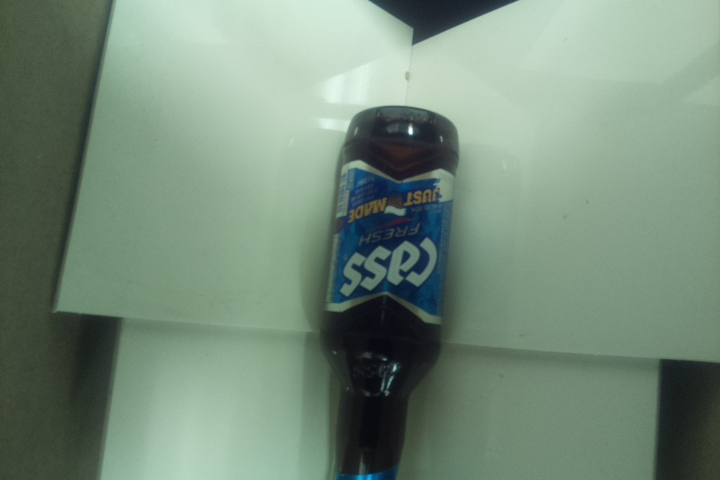makju: (319, 104, 461, 480)
